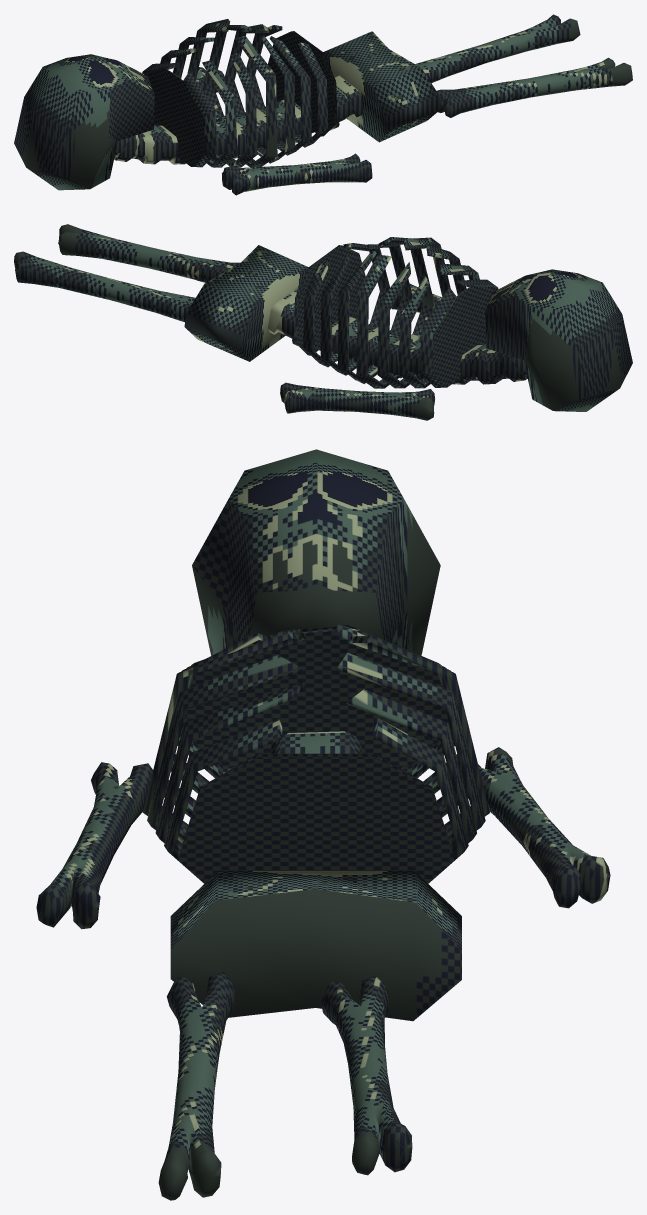
Rendered from SM_Skeleton.fbx.
3 renders of one model, top to bottom at view 1: azimuth 30°, elevation 25°; view 2: azimuth 150°, elevation 25°; view 3: azimuth 270°, elevation 25°, orthographic. The views are drawn at different scales.
Visible parts, largest first — view 1: SM_Skeleton; view 2: SM_Skeleton; view 3: SM_Skeleton.
Boxes of the visible parts, left/top/right/bottom form: SM_Skeleton: left=14, top=14, right=632, bottom=195; SM_Skeleton: left=14, top=224, right=632, bottom=420; SM_Skeleton: left=36, top=449, right=610, bottom=1200.
Size of the model in its own units: 174 by 38.41 by 76.14.
